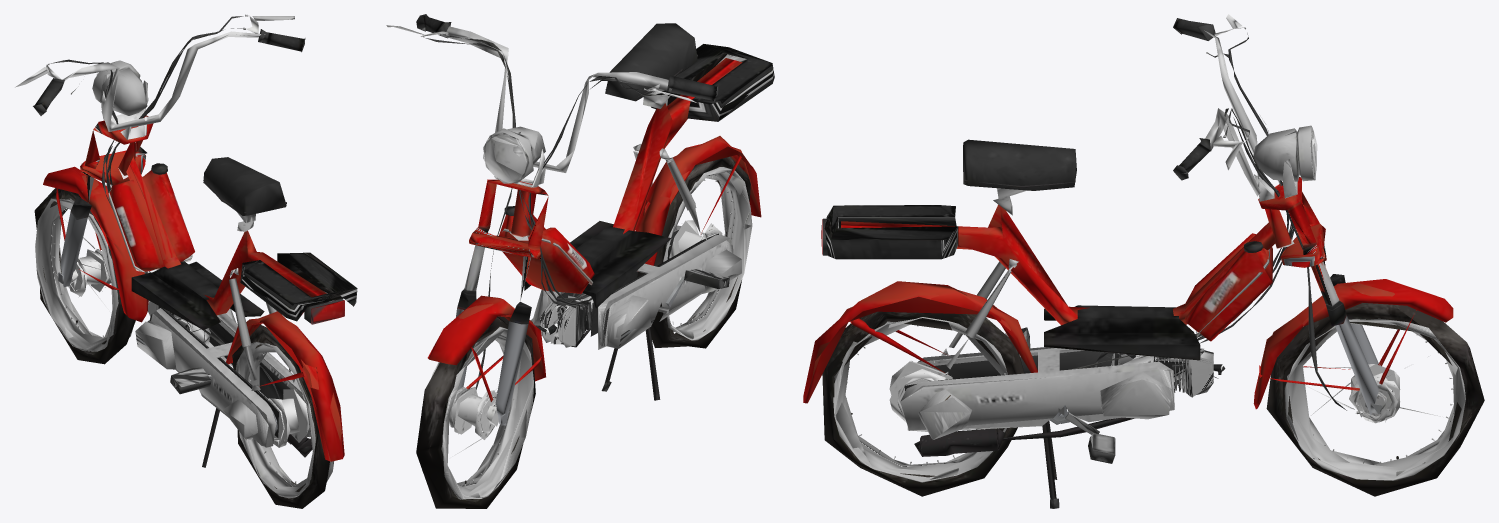
Rendered from xe-vespa.glb.
3 views of the same model, side by side, from view 1: azimuth 30°, elevation 25°; view 2: azimuth 150°, elevation 25°; view 3: azimuth 270°, elevation 25° (orthographic). The views are drawn at different scales.
Parts seen in each view (by area): view 1: Deksel, Bensintank, Felg, Bak_fender, Bagarsje_brett, Styre, Fot_stand, Front_fender, Ramme, Front_del, Sete, Felg_2 (+11 smaller); view 2: Deksel, Front_del, Felg, Ramme, Gummi, Felg_2, Styre, Fot_stand, Bagarsje_brett, Sete, Bak_fender, Front_fender (+11 smaller); view 3: Deksel, Gummi, Bagarsje_brett, Gummi_2, Felg, Ramme, Bak_fender, Fot_stand, Front_del, Sete, Front_fender, Felg_2 (+12 smaller).
Part boxes in pixels (x1=…): Deksel: x1=135, y1=308, x2=310, y2=447; Bensintank: x1=108, y1=163, x2=194, y2=272; Felg: x1=35, y1=198, x2=133, y2=351; Bak_fender: x1=226, y1=311, x2=344, y2=461; Bagarsje_brett: x1=240, y1=252, x2=357, y2=321; Styre: x1=15, y1=15, x2=305, y2=139; Fot_stand: x1=131, y1=261, x2=264, y2=329; Front_fender: x1=43, y1=166, x2=148, y2=322; Ramme: x1=118, y1=142, x2=326, y2=315; Front_del: x1=60, y1=115, x2=153, y2=287; Sete: x1=203, y1=157, x2=286, y2=231; Felg_2: x1=235, y1=341, x2=334, y2=498; Deksel: x1=532, y1=225, x2=741, y2=349; Front_del: x1=456, y1=179, x2=548, y2=425; Felg: x1=421, y1=327, x2=533, y2=499; Ramme: x1=510, y1=58, x2=742, y2=294; Gummi: x1=416, y1=316, x2=535, y2=508; Felg_2: x1=663, y1=167, x2=752, y2=340; Styre: x1=386, y1=14, x2=718, y2=184; Fot_stand: x1=524, y1=221, x2=671, y2=308; Bagarsje_brett: x1=649, y1=44, x2=774, y2=121; Sete: x1=605, y1=23, x2=697, y2=108; Bak_fender: x1=635, y1=136, x2=761, y2=265; Front_fender: x1=427, y1=295, x2=545, y2=401; Deksel: x1=900, y1=347, x2=1174, y2=439; Gummi: x1=1266, y1=303, x2=1484, y2=496; Bagarsje_brett: x1=824, y1=205, x2=958, y2=259; Gummi_2: x1=822, y1=311, x2=1024, y2=496; Felg: x1=1284, y1=318, x2=1465, y2=480; Ramme: x1=841, y1=204, x2=1294, y2=325; Bak_fender: x1=803, y1=281, x2=1037, y2=403; Fot_stand: x1=1044, y1=305, x2=1200, y2=360; Front_del: x1=1258, y1=177, x2=1378, y2=415; Sete: x1=963, y1=139, x2=1076, y2=215; Front_fender: x1=1253, y1=279, x2=1453, y2=409; Felg_2: x1=833, y1=317, x2=1007, y2=482.
Size of the model in its own units: 0.5435 by 0.6724 by 0.997.
Materials: 3 (3 with a texture image).
